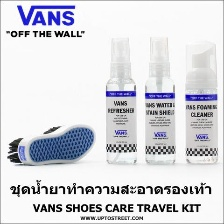cleaning_solution: (102, 32, 140, 167), (182, 38, 220, 167), (142, 33, 178, 167)
